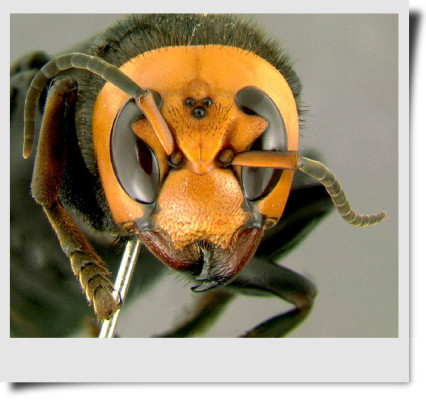asian_giant_hornet: (11, 15, 395, 319)
